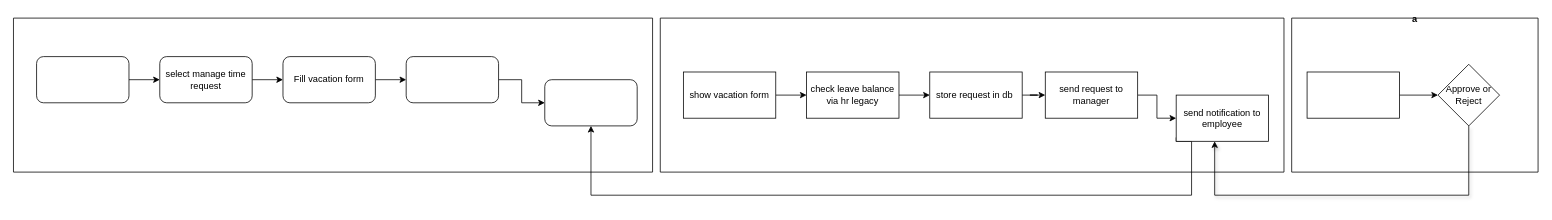
This 1552x220 diagram has some shape labels left out. The shapes that lost their labels are listed below. From the top down, each one's centre as x and y in pixels, then its label:
At point 82,79: "Logs into system".
At point 452,79: "edit / delete before sending".
At point 1352,94: "review request".
At point 590,102: "wait for manger response".
